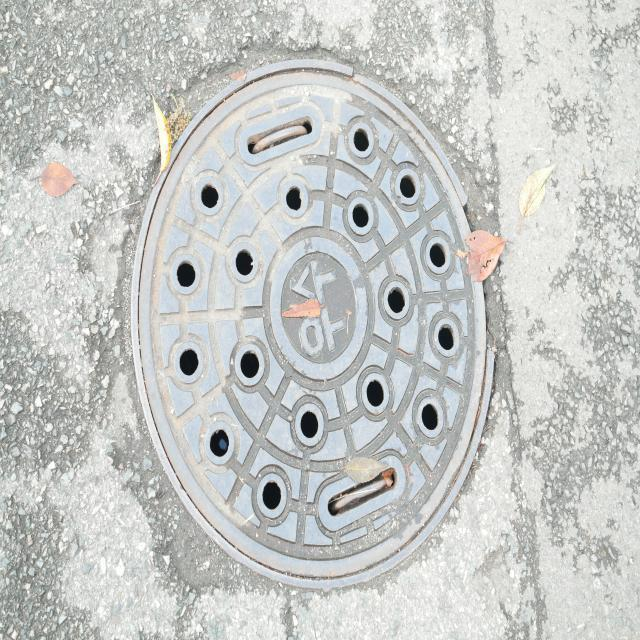manhole: (132, 60, 494, 588)
